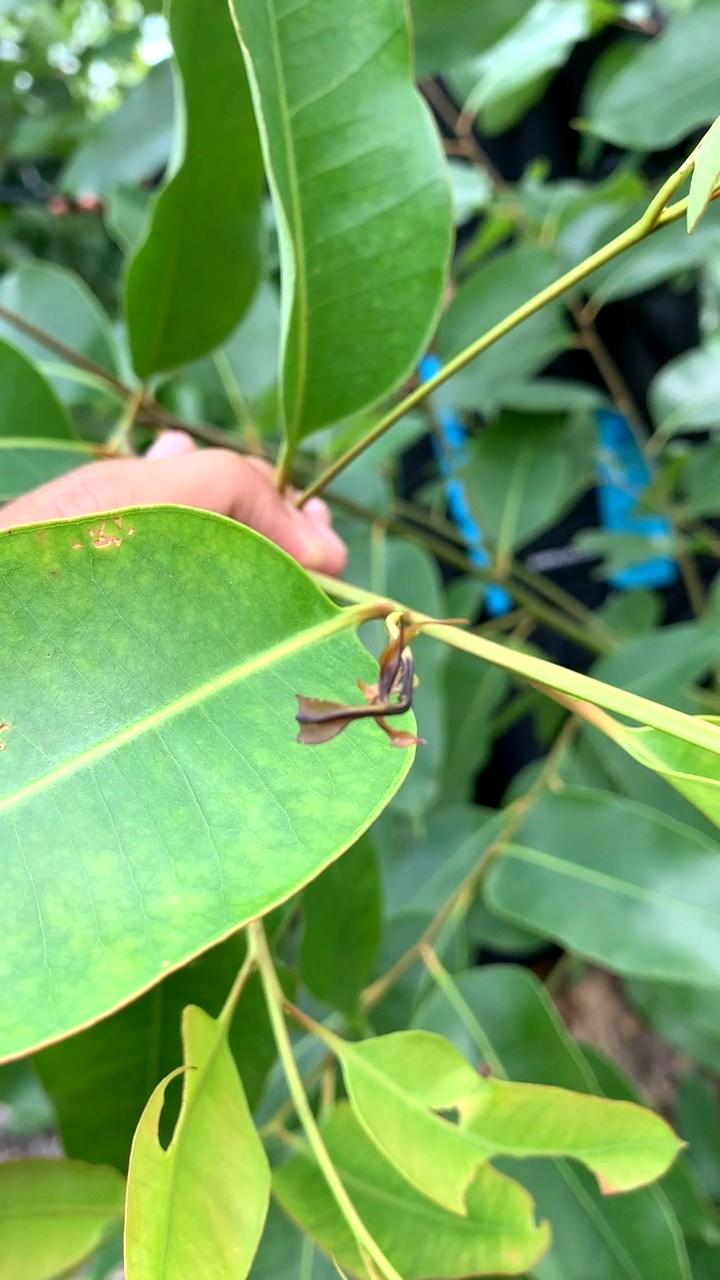Helopeltis-Withered Sprout: (298, 618, 485, 751)
